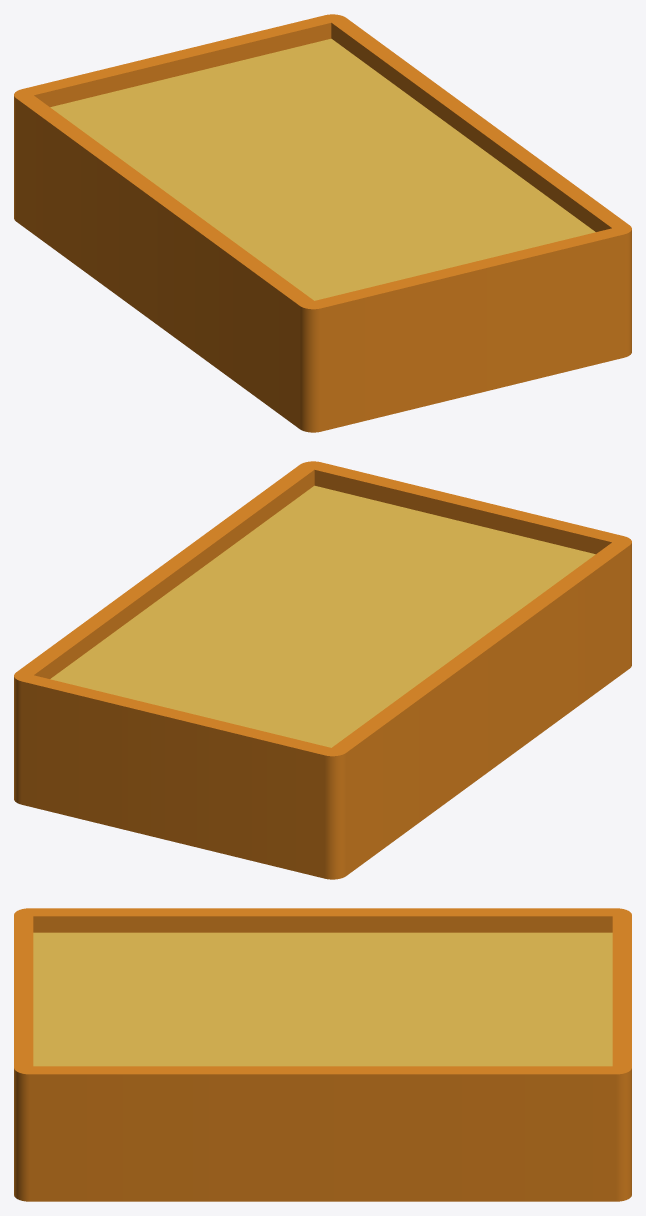
File: xiaohw.glb
3 renders of one model, top to bottom at view 1: azimuth 30°, elevation 25°; view 2: azimuth 150°, elevation 25°; view 3: azimuth 270°, elevation 25°, orthographic. The views are drawn at different scales.
Visible parts, largest first — view 1: 货盘.031_Cube.103; view 2: 货盘.031_Cube.103; view 3: 货盘.031_Cube.103.
Part boxes in pixels (left/top/right/bottom): 货盘.031_Cube.103: left=14, top=14, right=631, bottom=432; 货盘.031_Cube.103: left=14, top=461, right=631, bottom=879; 货盘.031_Cube.103: left=14, top=908, right=631, bottom=1201.
Size of the model in its own units: 1.4 by 0.5 by 2.2.
